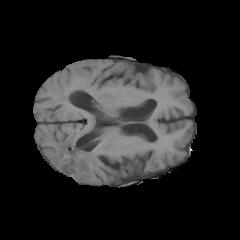glioma: (49, 82, 98, 178)
